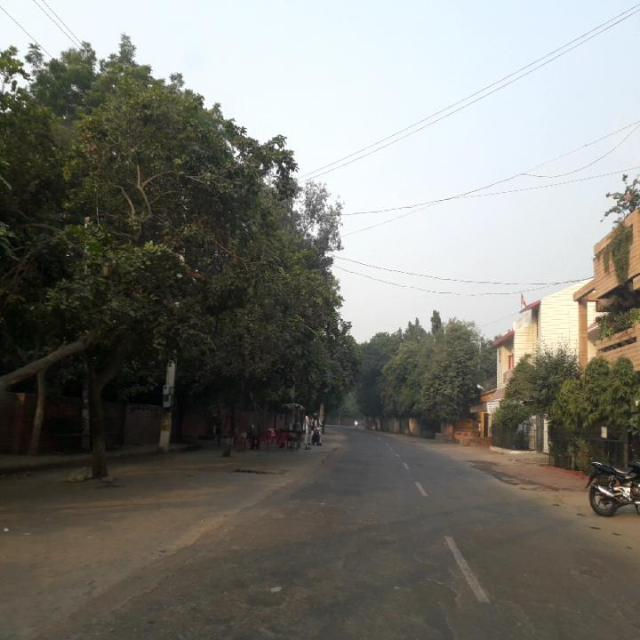Surface Erosion: (203, 466, 620, 640)
